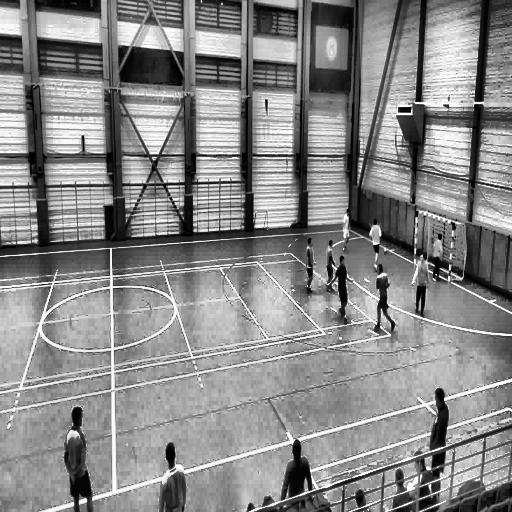ball: (382, 245, 388, 256)
player: (64, 405, 106, 512), (158, 441, 185, 512), (430, 390, 448, 482), (374, 261, 395, 330), (328, 255, 349, 324), (412, 252, 428, 318), (325, 236, 336, 295), (370, 219, 382, 272), (305, 238, 315, 294), (432, 234, 443, 283), (342, 206, 350, 252)
